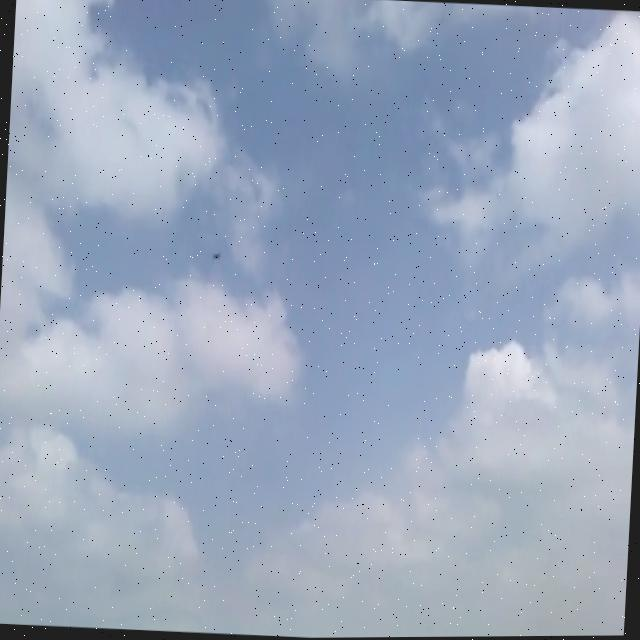drone: (207, 242, 224, 268)
